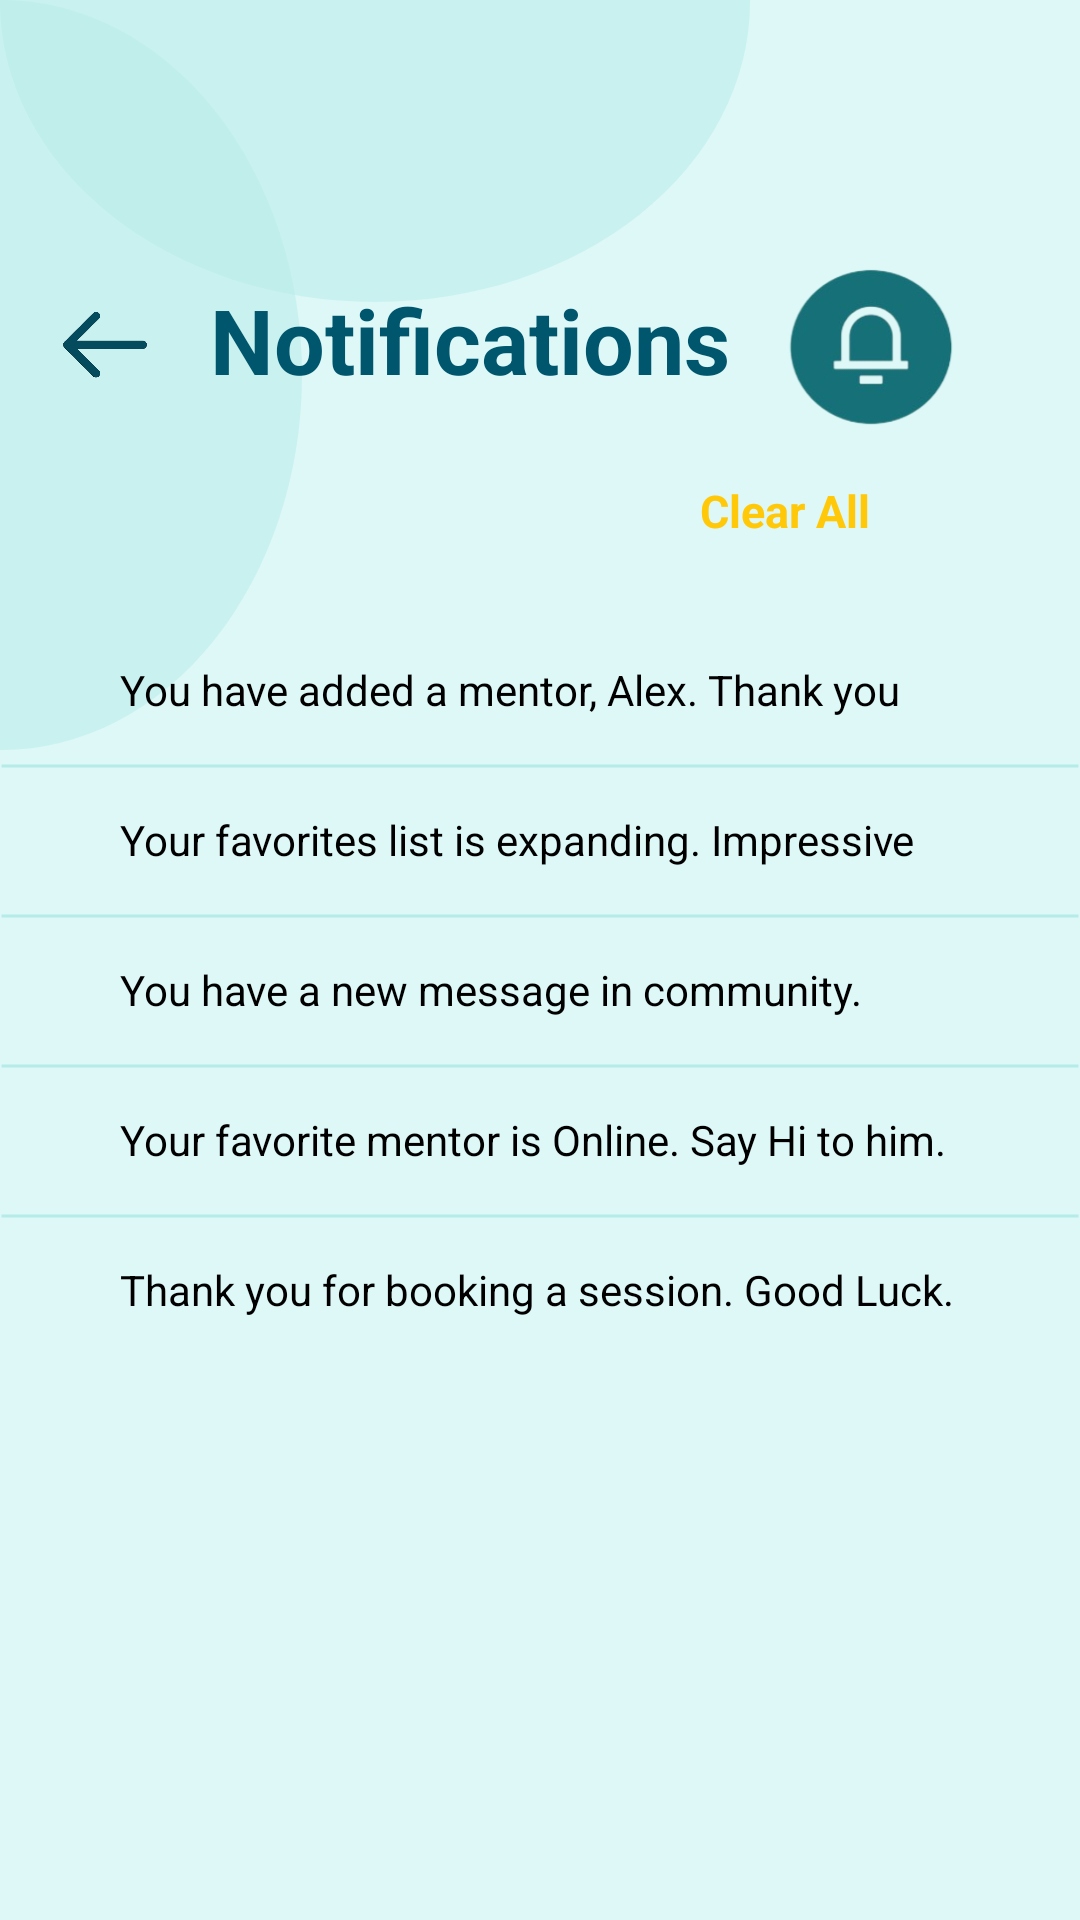

Icons on this 1080x1920 Android screen, each with the point to tap as (x=x, y=y):
backarrow: (x=105, y=345)
